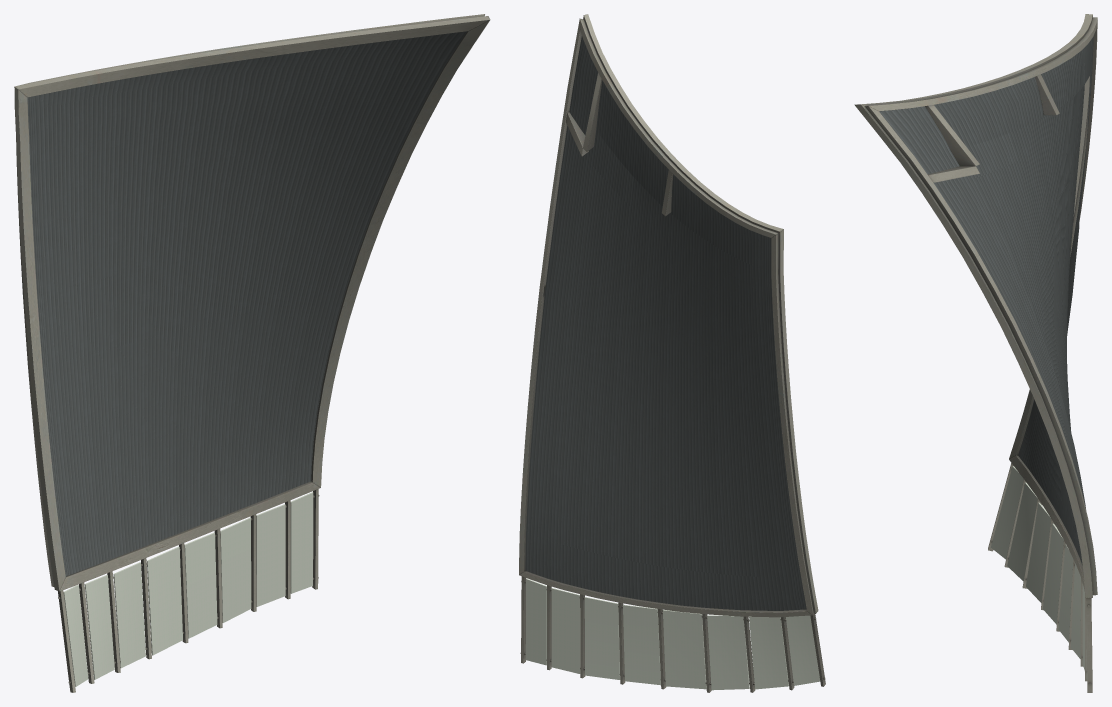
Rendered from nt_rooftop_angular_house_LOD0.obj.
The picture shows the model from 3 angles, left to right: view 1: azimuth 30°, elevation 25°; view 2: azimuth 150°, elevation 25°; view 3: azimuth 270°, elevation 25°; orthographic projection. The views are drawn at different scales.
Visible parts, largest first — view 1: metal_corrugated_wide_bars, mtl_nt_rooftop_angular_house, nt_2020_glass_sanded_01; view 2: metal_corrugated_wide_bars, nt_2020_glass_sanded_01, mtl_nt_rooftop_angular_house; view 3: metal_corrugated_wide_bars, mtl_nt_rooftop_angular_house, nt_2020_glass_sanded_01.
Part boxes in pixels (box(x1,y1,x2,y2)): metal_corrugated_wide_bars: box(27, 31, 467, 576); mtl_nt_rooftop_angular_house: box(14, 14, 490, 692); nt_2020_glass_sanded_01: box(63, 492, 313, 686); metal_corrugated_wide_bars: box(525, 36, 806, 610); nt_2020_glass_sanded_01: box(525, 578, 820, 690); mtl_nt_rooftop_angular_house: box(519, 14, 825, 692); metal_corrugated_wide_bars: box(879, 36, 1093, 565); mtl_nt_rooftop_angular_house: box(854, 14, 1097, 692); nt_2020_glass_sanded_01: box(991, 466, 1087, 679).
Bounding box in the file's own units: 1250 × 2221 × 794.
